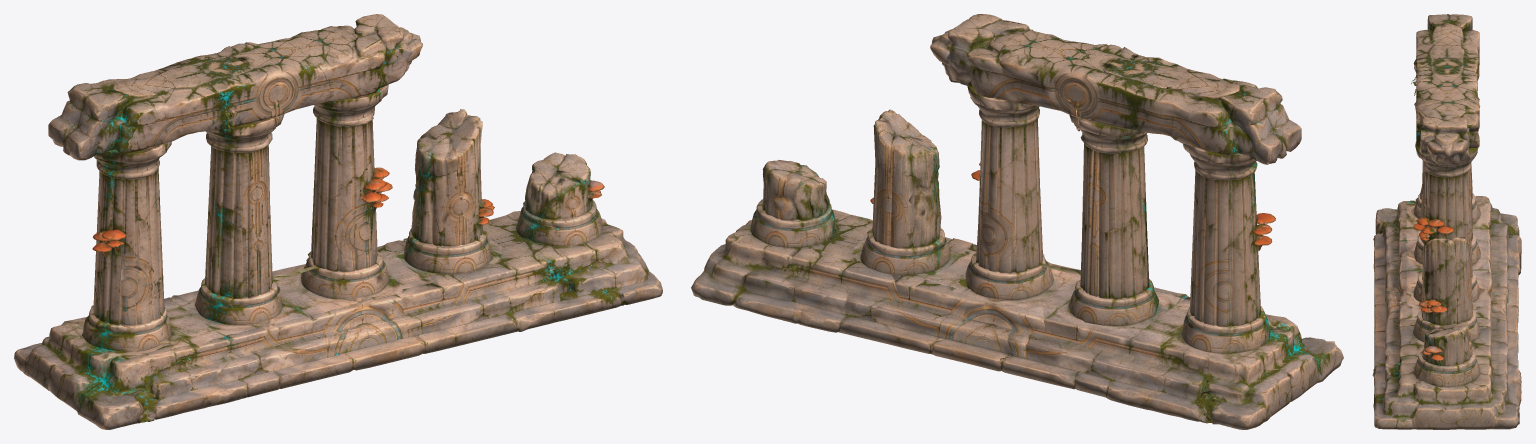
File: citadel_colonnade.glb
3 views of the same model, side by side, from view 1: azimuth 30°, elevation 25°; view 2: azimuth 150°, elevation 25°; view 3: azimuth 270°, elevation 25° (orthographic). The views are drawn at different scales.
Size of the model in its own units: 0.9526 by 0.4712 by 0.2876.
1 material, 1 textured.
